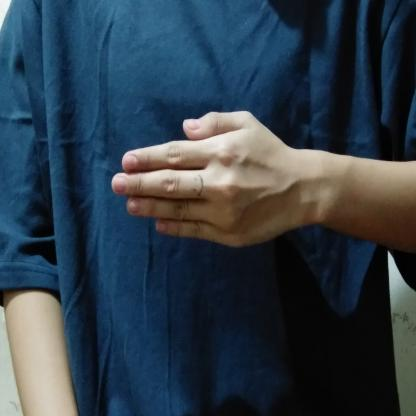ready: (107, 105, 373, 253)
